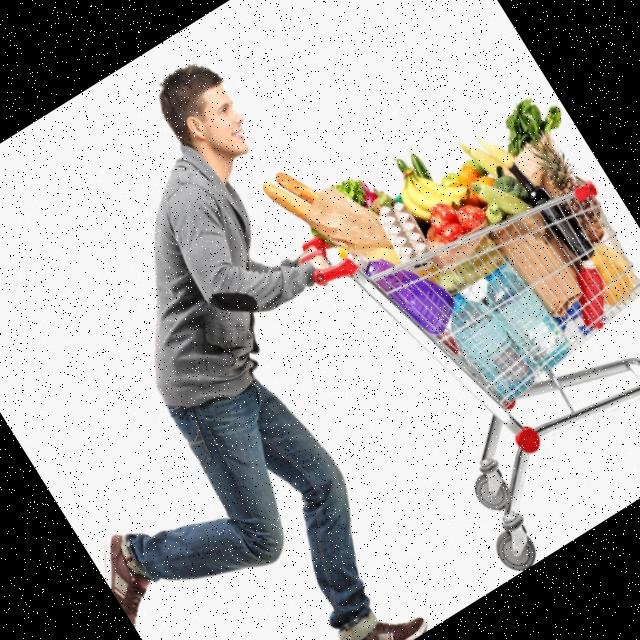Person: (0, 48, 528, 640)
